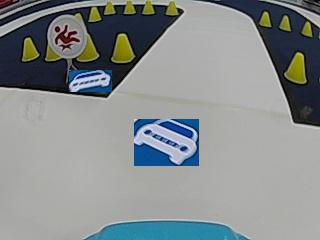cone: (110, 31, 134, 64), (283, 51, 306, 85), (77, 37, 99, 62), (21, 36, 38, 61), (45, 44, 59, 61), (88, 6, 101, 22), (259, 10, 271, 27), (279, 14, 291, 31), (142, 0, 155, 15), (165, 0, 178, 15), (123, 0, 135, 15), (103, 0, 115, 15), (301, 21, 312, 36)
tumble: (51, 18, 83, 53)
